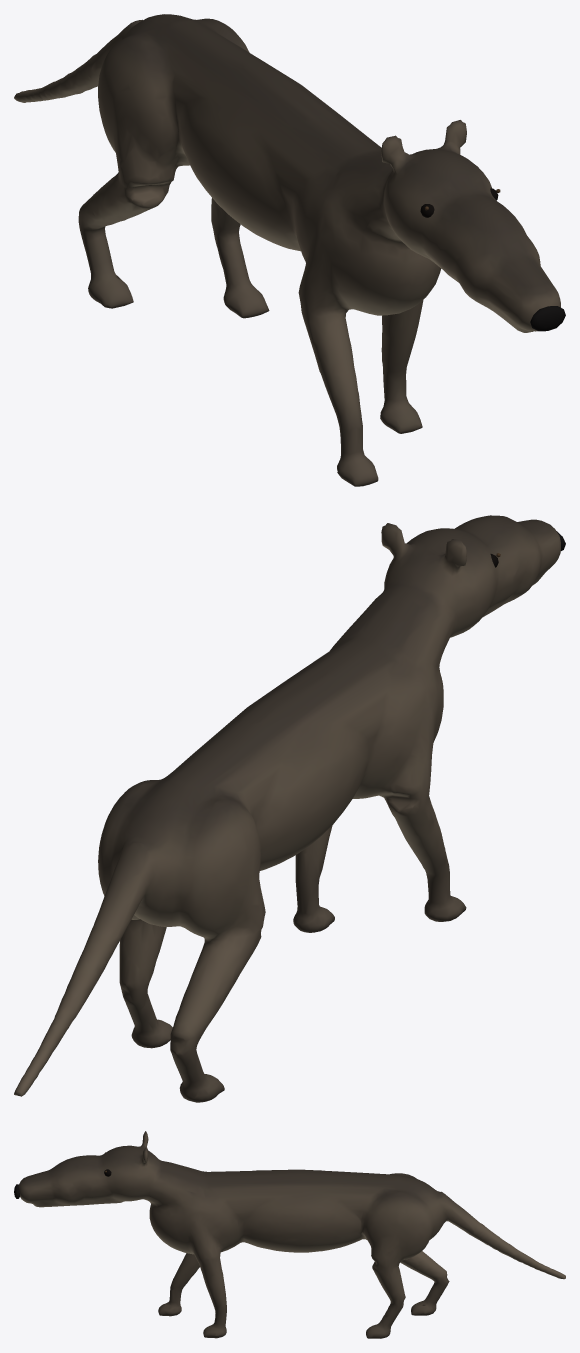
Rendered from HyaenodonHorridus.fbx.
3 views of the same model, one above another, from view 1: azimuth 30°, elevation 25°; view 2: azimuth 150°, elevation 25°; view 3: azimuth 270°, elevation 25° (orthographic). The views are drawn at different scales.
Visible parts, largest first — view 1: HyaenodonHorridus; view 2: HyaenodonHorridus; view 3: HyaenodonHorridus.
Part boxes in pixels (x1=…): HyaenodonHorridus: x1=14, y1=14, x2=565, y2=486; HyaenodonHorridus: x1=14, y1=515, x2=565, y2=1102; HyaenodonHorridus: x1=14, y1=1131, x2=565, y2=1338.
Bounding box in the file's own units: 0.331 × 0.8142 × 2.2.
